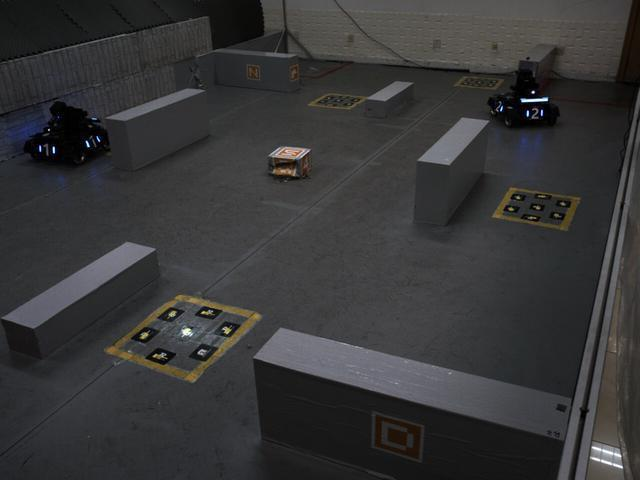armor: (79, 131, 104, 153), (521, 105, 548, 123), (33, 141, 59, 159), (491, 98, 506, 118)
